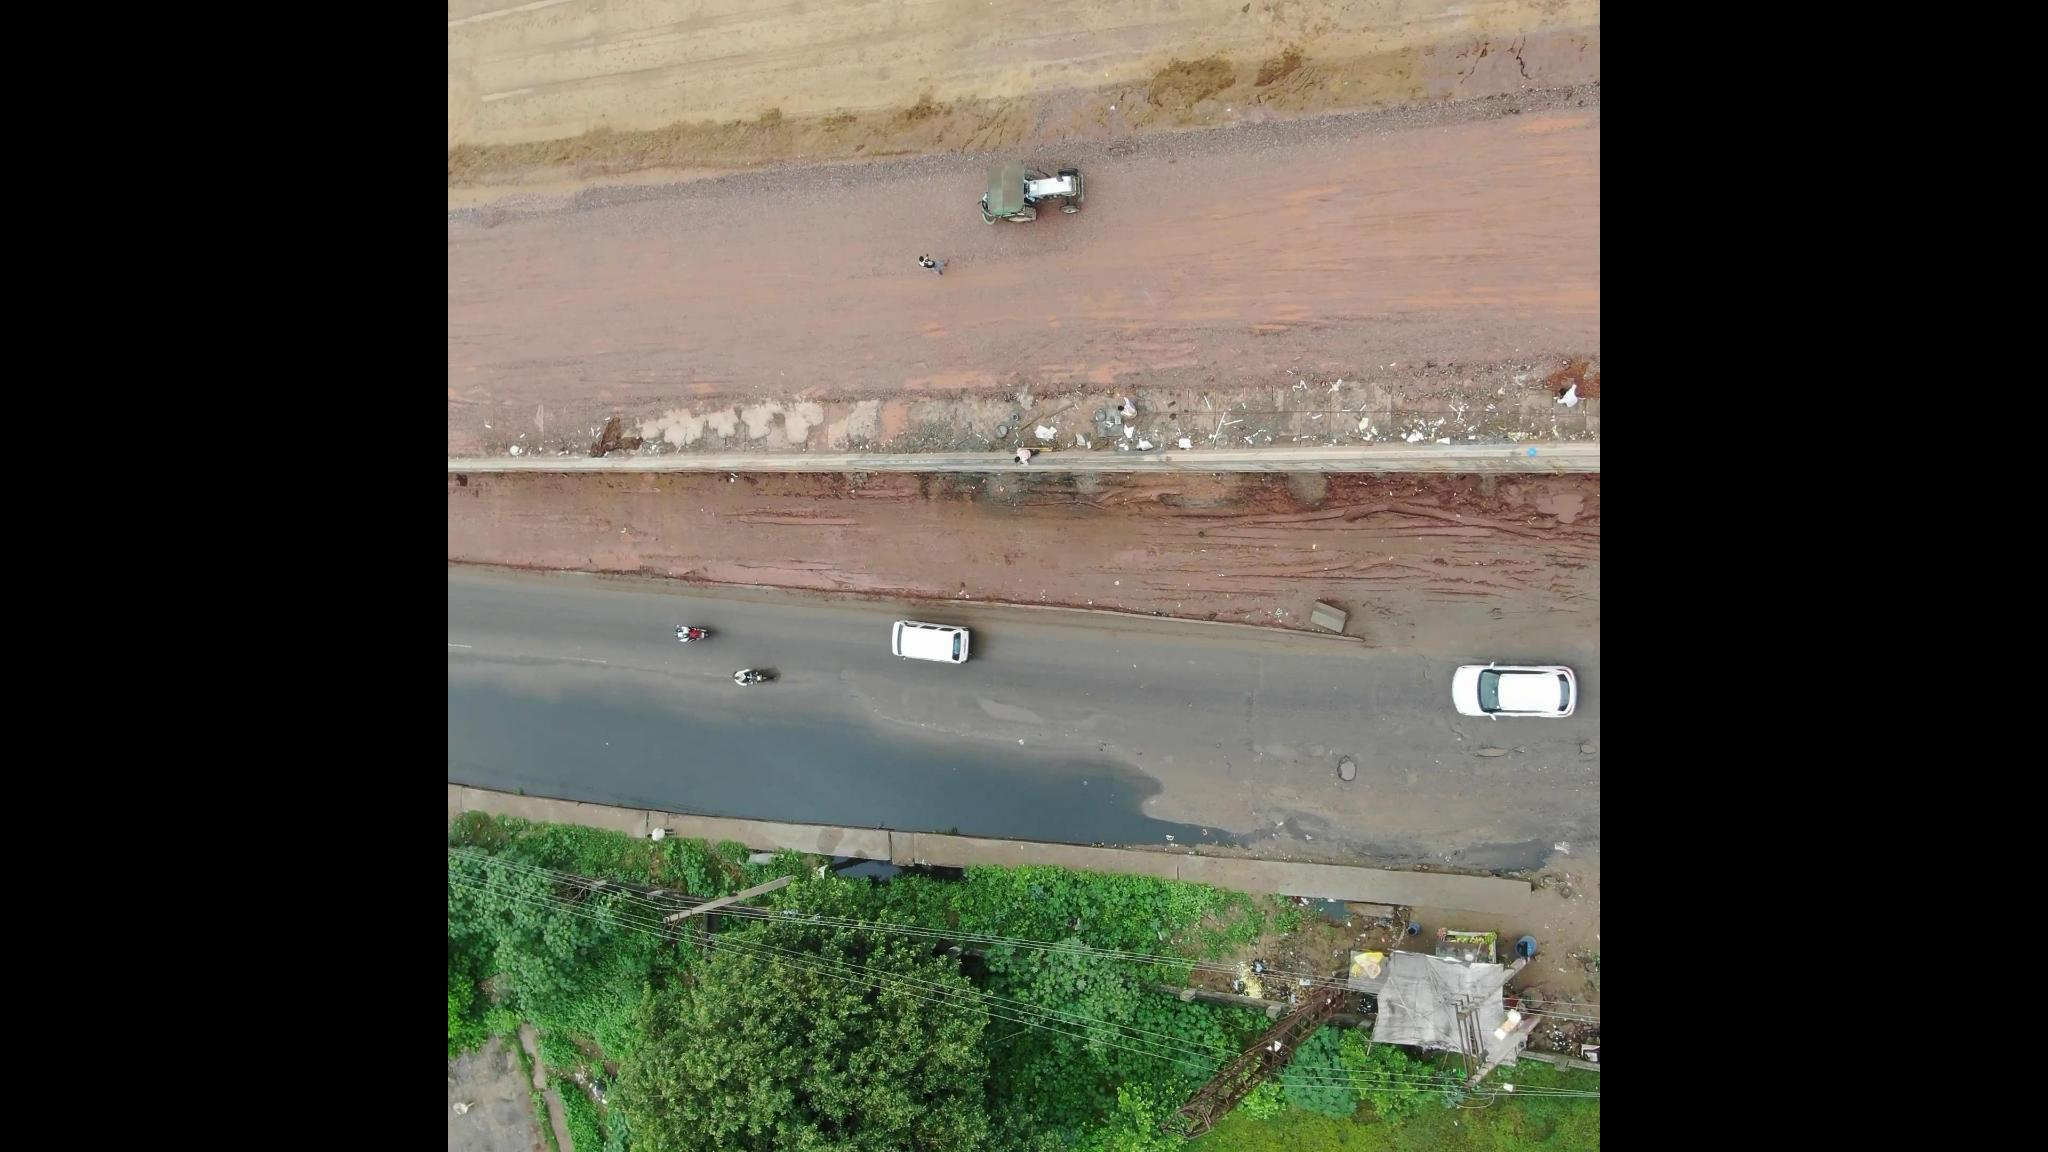Potholes: (1449, 724, 1595, 783), (964, 695, 1077, 743), (1310, 751, 1385, 798)
